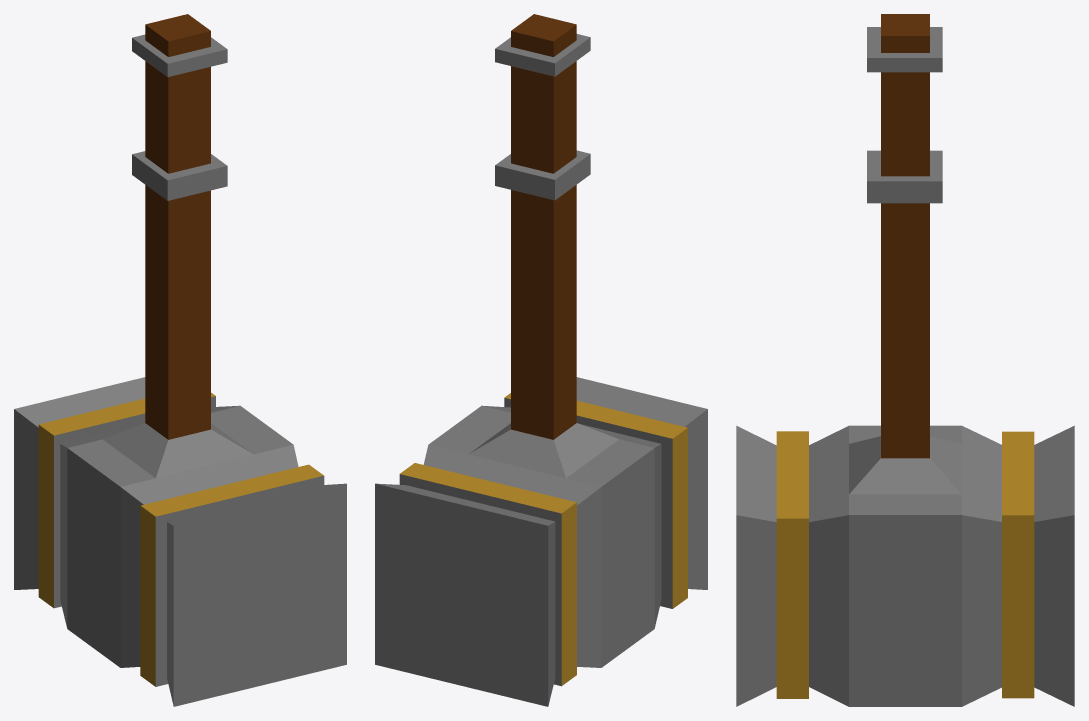
File: betahammer0.2.fbx
The picture shows the model from 3 angles, left to right: view 1: azimuth 30°, elevation 25°; view 2: azimuth 150°, elevation 25°; view 3: azimuth 270°, elevation 25°; orthographic projection. The views are drawn at different scales.
Visible parts, largest first — view 1: Cube; view 2: Cube; view 3: Cube.
Part boxes in pixels (<box>): Cube: <box>14,14,346,706</box>; Cube: <box>375,14,707,706</box>; Cube: <box>736,14,1074,706</box>.
Size of the model in its own units: 25.43 by 84.28 by 40.62.
